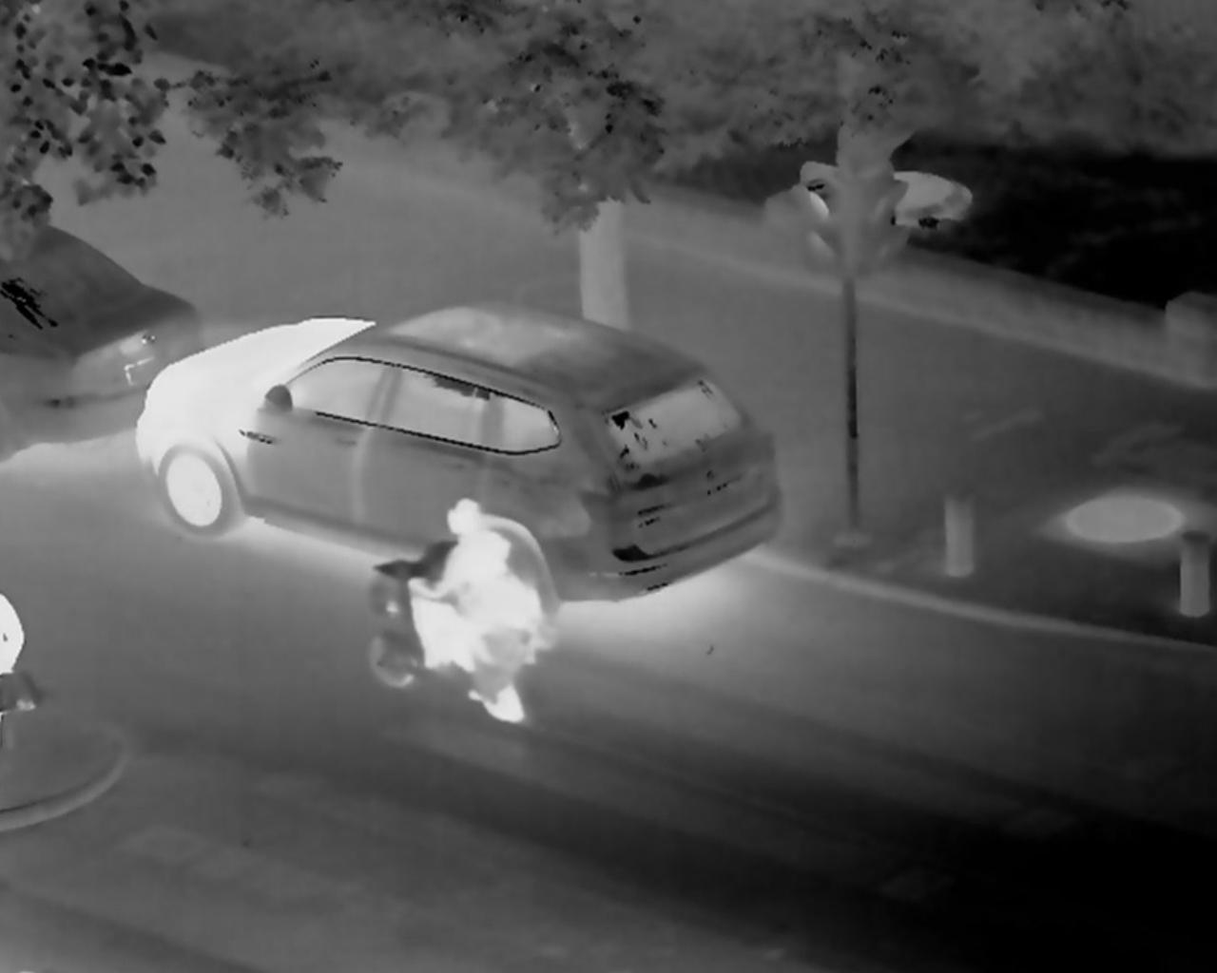person: (449, 489, 547, 680)
